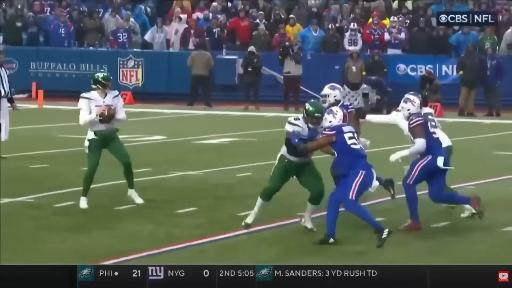Helmet: (322, 106, 347, 129), (399, 92, 421, 118), (303, 100, 324, 127), (321, 84, 343, 107), (92, 72, 111, 89)
Jersey: (322, 125, 367, 177), (408, 112, 445, 157), (422, 108, 451, 147), (78, 91, 123, 114), (285, 117, 322, 143), (330, 101, 355, 124), (338, 102, 354, 124)
Player: (294, 107, 391, 247), (390, 95, 483, 230), (243, 101, 324, 231), (78, 73, 143, 208), (404, 92, 453, 160), (321, 84, 369, 147)
